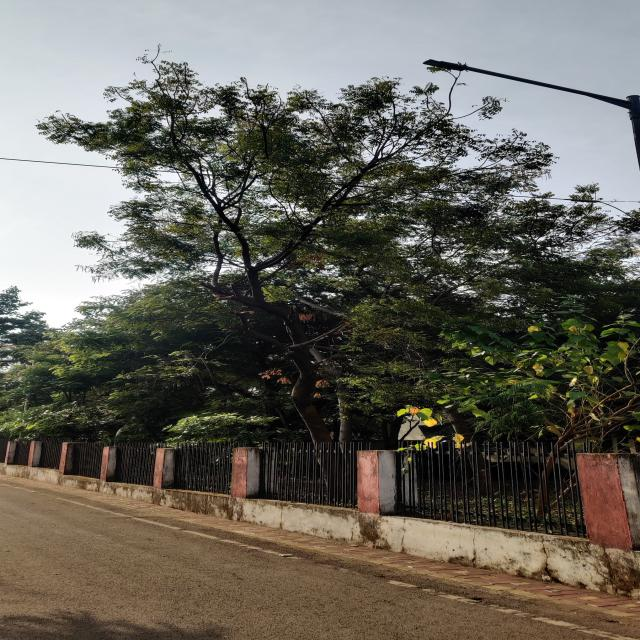Neem Tree: (88, 66, 525, 367)
